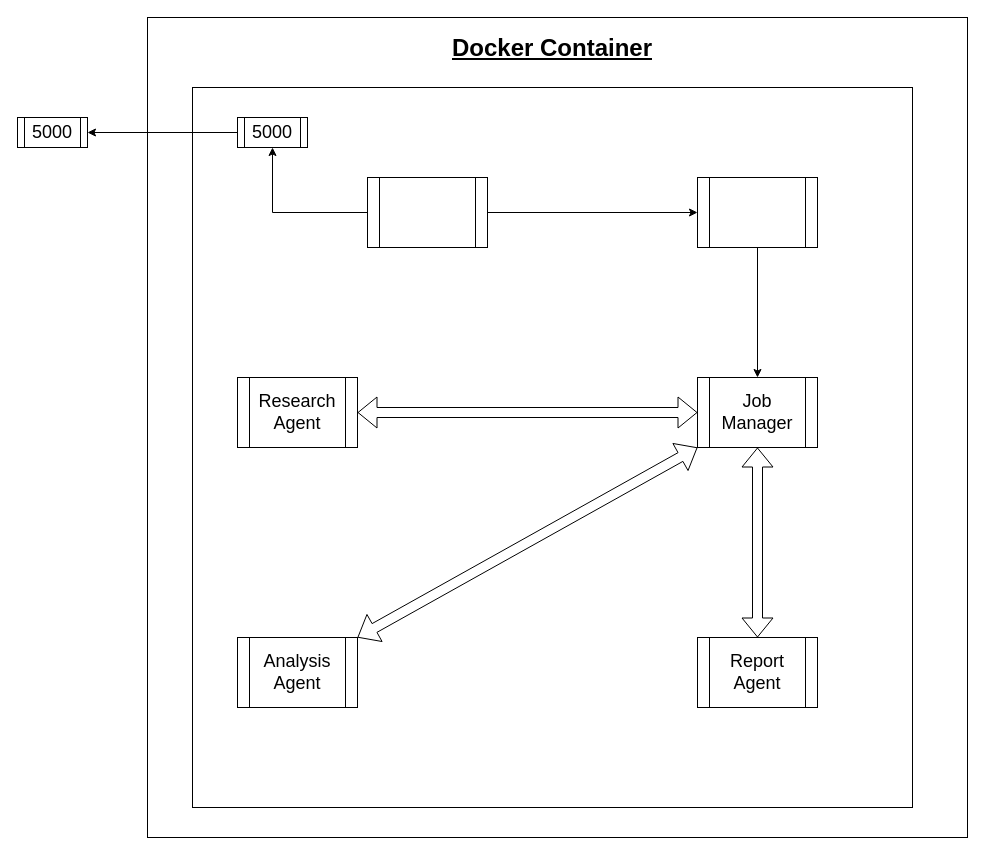
This 985x855 diagram has some shape labels left out. The shapes that lost their labels are listed below. From the top down, each one's centre as x and y in pixels, then its label:
pixel 427 212: Frontend
pixel 757 212: App
